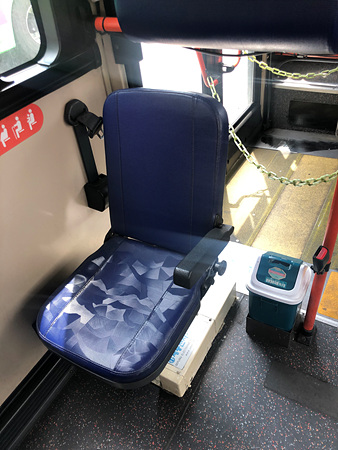seat: (38, 94, 228, 374)
